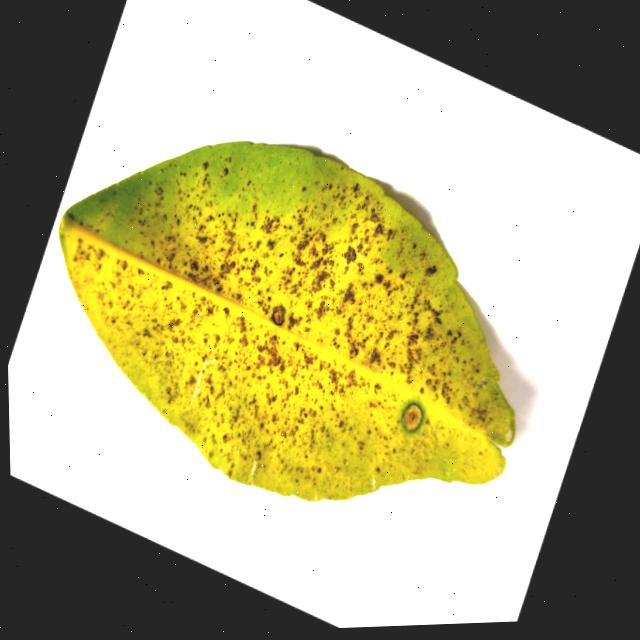melanose: (59, 141, 514, 500)
